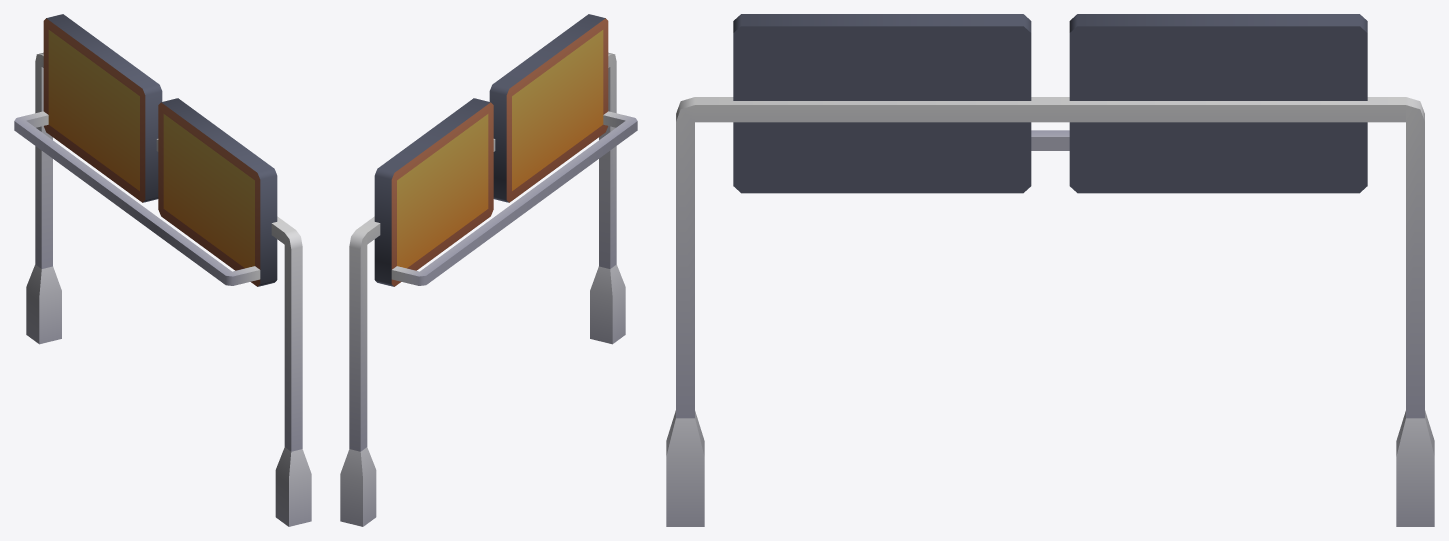
Rendered from sign-highway.glb.
3 renders of one model, left to right at view 1: azimuth 30°, elevation 25°; view 2: azimuth 150°, elevation 25°; view 3: azimuth 270°, elevation 25°, orthographic. The views are drawn at different scales.
Parts seen in each view (by area): view 1: sign-highway; view 2: sign-highway; view 3: sign-highway.
Part boxes in pixels (left/top/right/bottom): sign-highway: left=14, top=14, right=311, bottom=526; sign-highway: left=340, top=14, right=637, bottom=526; sign-highway: left=666, top=14, right=1434, bottom=526.
Size of the model in its own units: 0.1324 by 0.7074 by 1.
